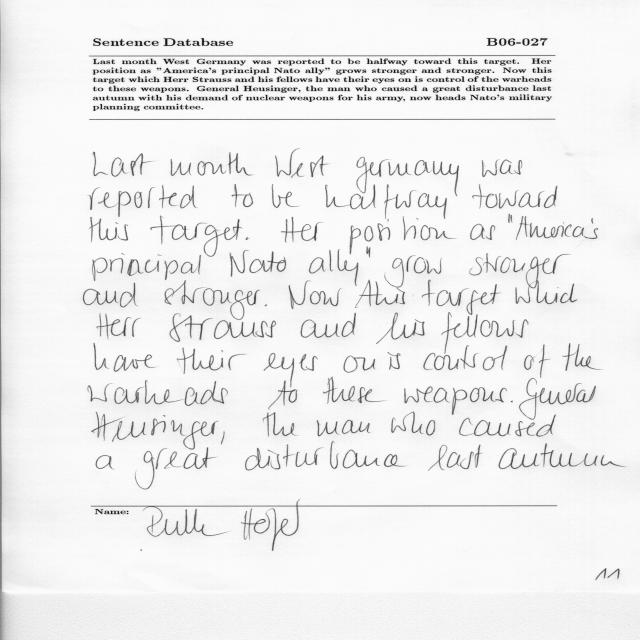word: (92, 412, 219, 450), (245, 441, 405, 471), (325, 184, 447, 219), (350, 217, 456, 255), (356, 157, 459, 196), (164, 280, 260, 320), (151, 216, 243, 257), (88, 380, 228, 406), (442, 313, 529, 354), (135, 447, 216, 490), (89, 185, 197, 217), (499, 443, 626, 469), (519, 378, 596, 420), (169, 313, 276, 342), (93, 253, 201, 281), (404, 386, 507, 415), (422, 279, 500, 315), (385, 256, 442, 305), (470, 254, 571, 278), (459, 415, 556, 437), (424, 346, 508, 371), (473, 185, 558, 209), (171, 152, 254, 176), (516, 216, 598, 240), (264, 353, 318, 388), (309, 249, 358, 286), (94, 343, 156, 372), (177, 348, 245, 374), (323, 377, 385, 404), (275, 148, 329, 178), (516, 278, 578, 304), (288, 280, 341, 309), (376, 313, 425, 344), (230, 250, 286, 277), (93, 152, 152, 177), (429, 445, 483, 471), (301, 313, 356, 338), (84, 283, 138, 308), (355, 280, 398, 308), (97, 313, 141, 339), (563, 343, 602, 371), (281, 217, 322, 242), (391, 412, 435, 435), (90, 217, 128, 242), (524, 345, 550, 379), (268, 381, 298, 410), (317, 420, 371, 436), (263, 412, 297, 437), (482, 159, 522, 177), (272, 184, 299, 208), (344, 356, 376, 373), (232, 185, 253, 208), (470, 224, 495, 240), (96, 455, 115, 470), (388, 352, 401, 370), (221, 432, 225, 445), (508, 214, 513, 223), (367, 247, 371, 258), (246, 237, 250, 240), (265, 304, 267, 306), (511, 401, 513, 403)
